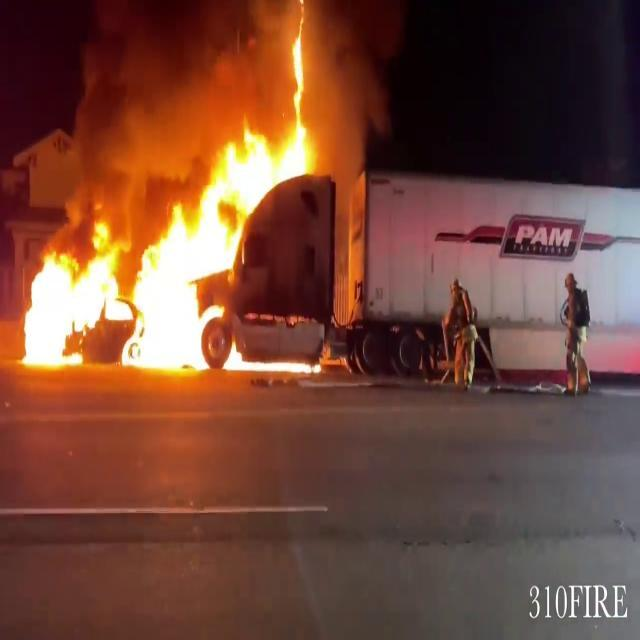Fire: (16, 76, 327, 378)
Smoke: (48, 0, 242, 219), (262, 0, 381, 208)
